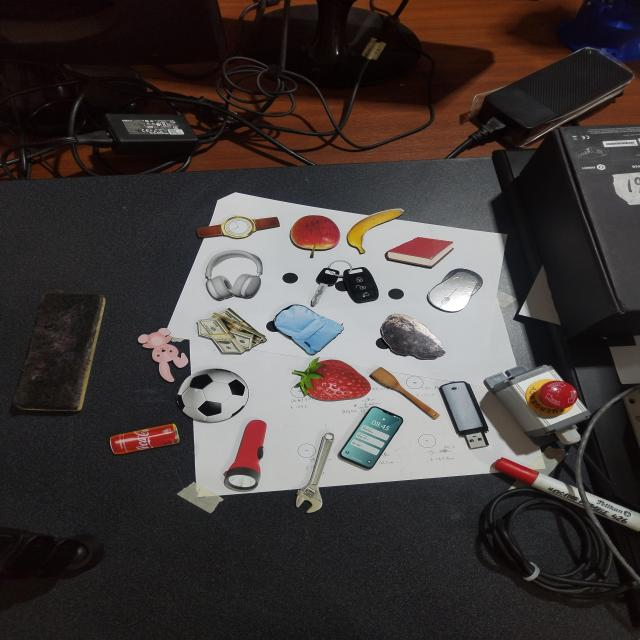Other Objects: (162, 358, 263, 433), (264, 296, 347, 357), (189, 303, 269, 364), (436, 378, 496, 452), (368, 366, 444, 423), (338, 406, 403, 470), (305, 258, 380, 307), (422, 263, 489, 317), (222, 418, 268, 493), (196, 307, 267, 355), (294, 431, 335, 514), (379, 313, 446, 360), (204, 249, 264, 301), (137, 327, 189, 382), (346, 208, 404, 254), (107, 423, 182, 456), (196, 214, 280, 241), (289, 215, 340, 255)
